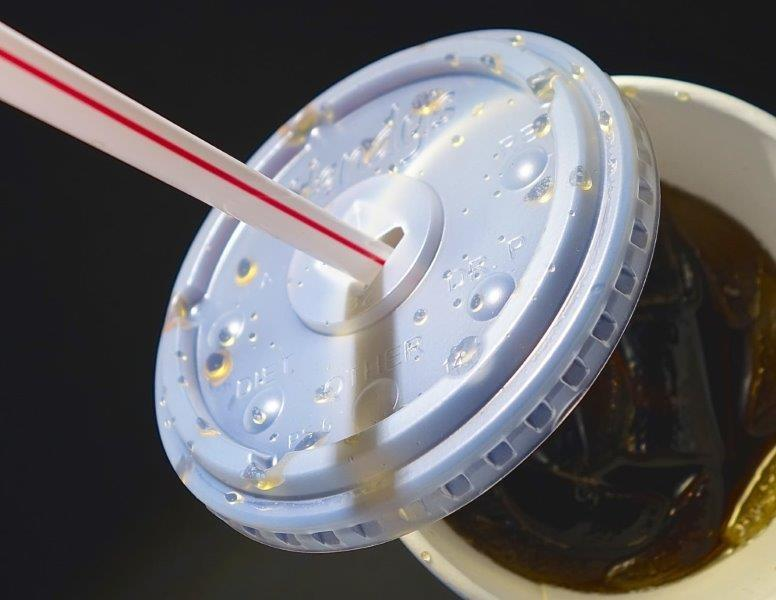cardboard: (335, 74, 776, 599)
plastic: (0, 24, 649, 555)
